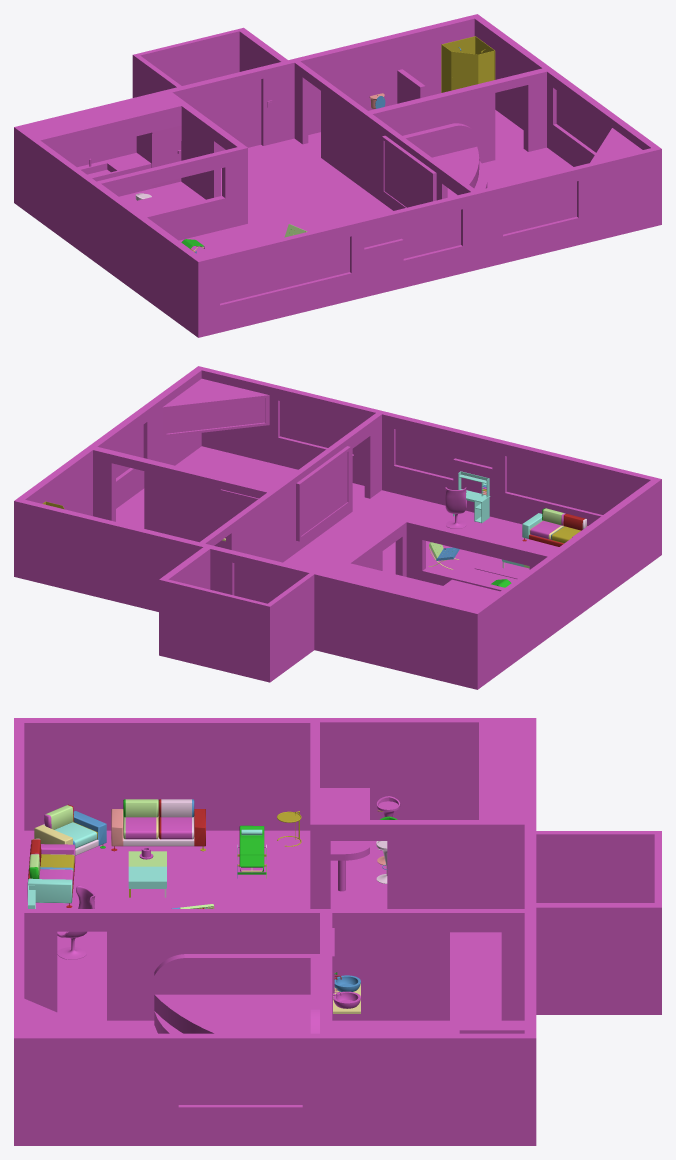
The model's file is interior.gltf.
The picture shows the model from 3 angles, top to bottom: view 1: azimuth 30°, elevation 25°; view 2: azimuth 150°, elevation 25°; view 3: azimuth 270°, elevation 25°; orthographic projection. The views are drawn at different scales.
Parts seen in each view (by area): view 1: 3d-model; view 2: 3d-model; view 3: 3d-model.
Boxes of the visible parts, left/top/right/bottom form: 3d-model: left=14, top=14, right=661, bottom=337; 3d-model: left=14, top=366, right=661, bottom=689; 3d-model: left=14, top=718, right=661, bottom=1145.
Bounding box in the file's own units: 16269 × 2621 × 13906.
